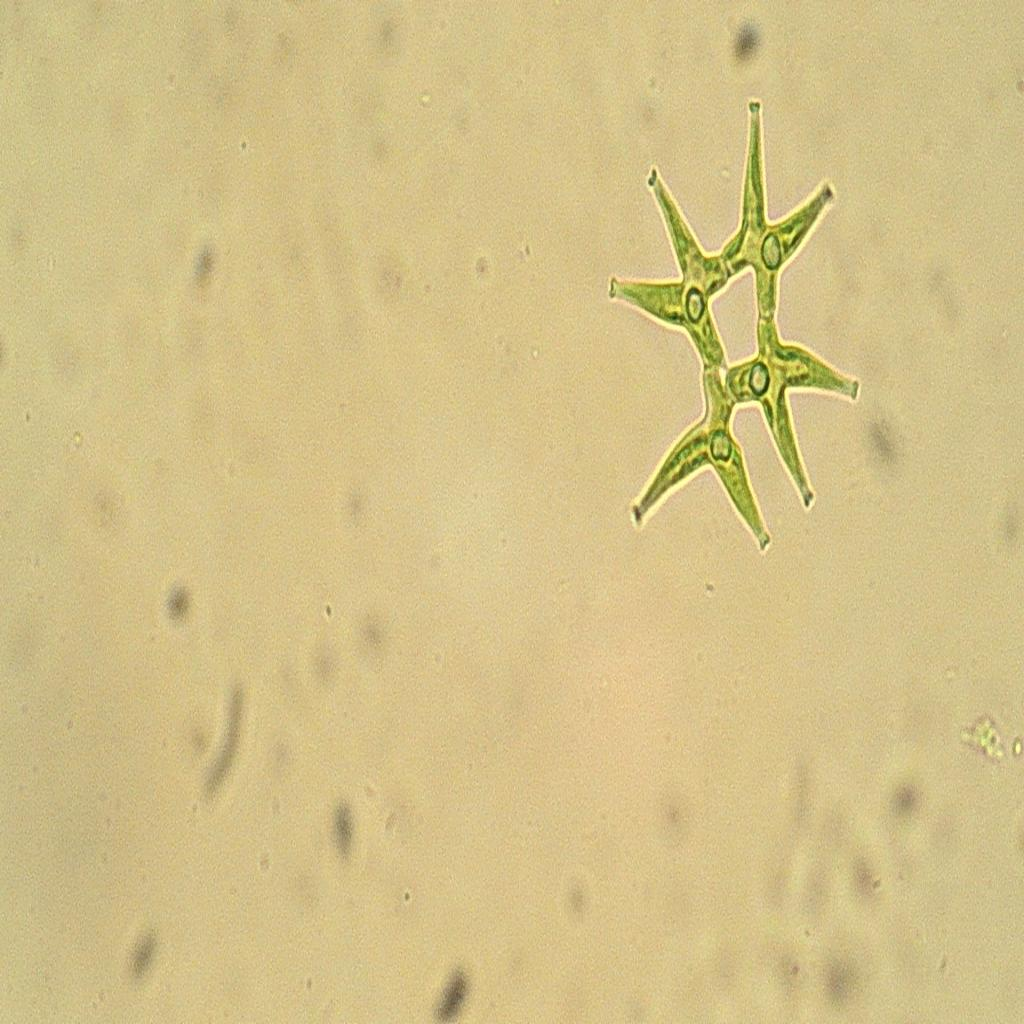Pediastrum_CT: (596, 64, 866, 583)
